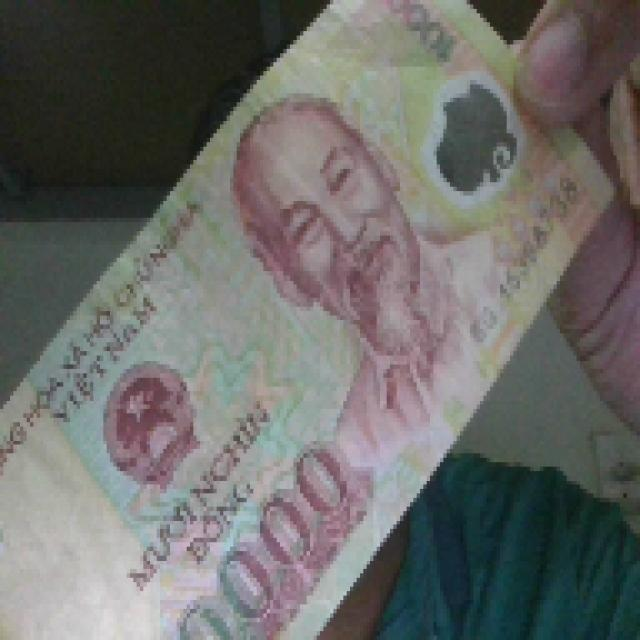10 000 VND: (1, 0, 620, 636)
